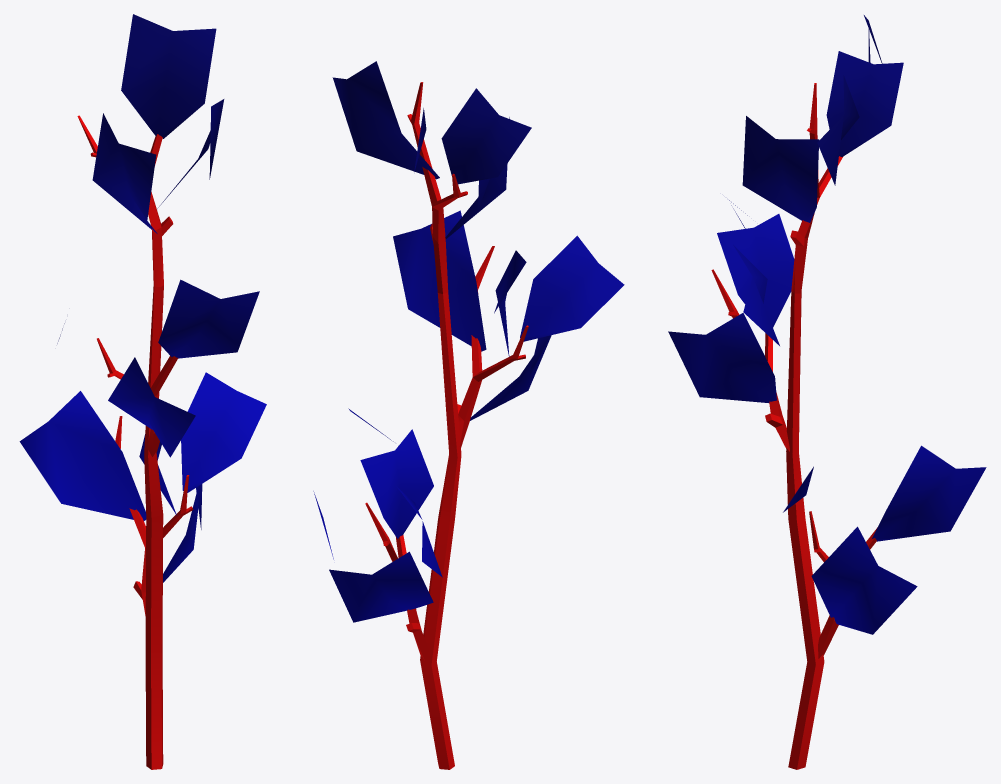
Rendered from SM_Tree_Dead_01.gltf.
3 views of the same model, side by side, from view 1: azimuth 30°, elevation 25°; view 2: azimuth 150°, elevation 25°; view 3: azimuth 270°, elevation 25° (orthographic).
Visible parts, largest first — view 1: SM_Tree_Dead_01; view 2: SM_Tree_Dead_01; view 3: SM_Tree_Dead_01.
Part boxes in pixels (x1=…): SM_Tree_Dead_01: x1=19, y1=14, x2=266, y2=769; SM_Tree_Dead_01: x1=313, y1=61, x2=624, y2=769; SM_Tree_Dead_01: x1=668, y1=15, x2=986, y2=769.
Bounding box in the file's own units: 1.25 × 3.5 × 1.42.
